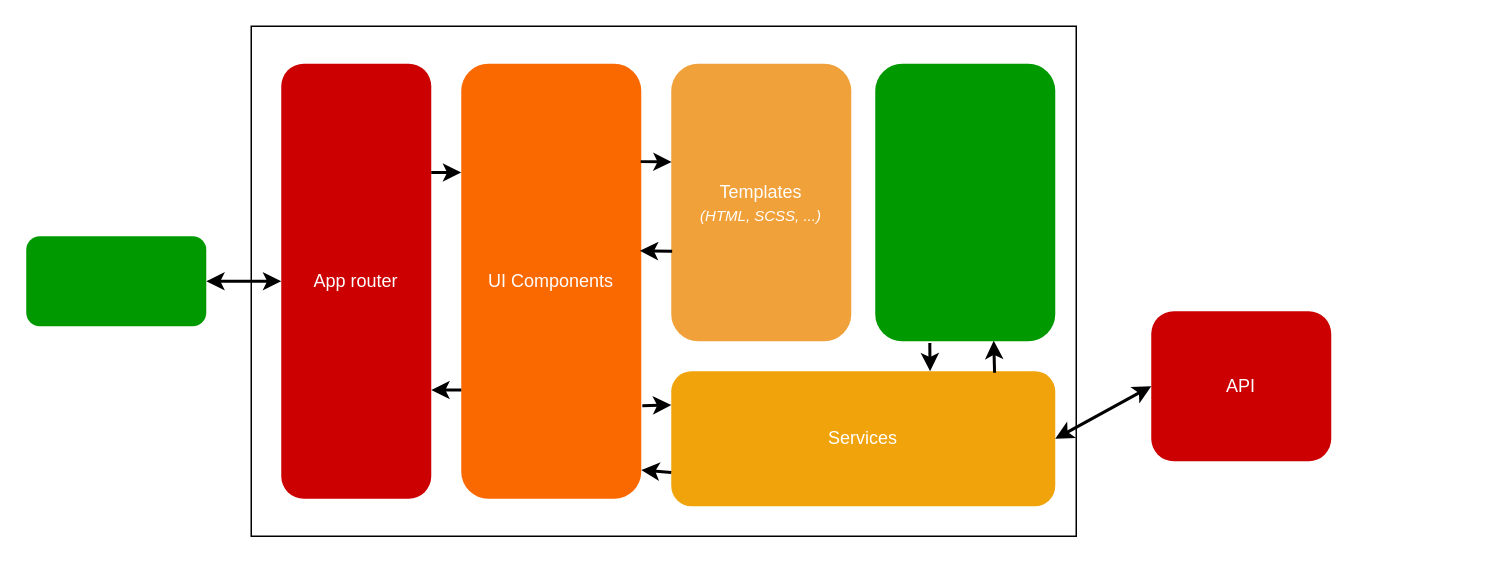
The diagram is 1493 pixels wide and 563 high, and some of its shapes have lost their labels. Here are the shapes that lost their labels. From the top down, the centre of each, then its label:
At point 964,201: "Models".
At point 116,281: "User".
